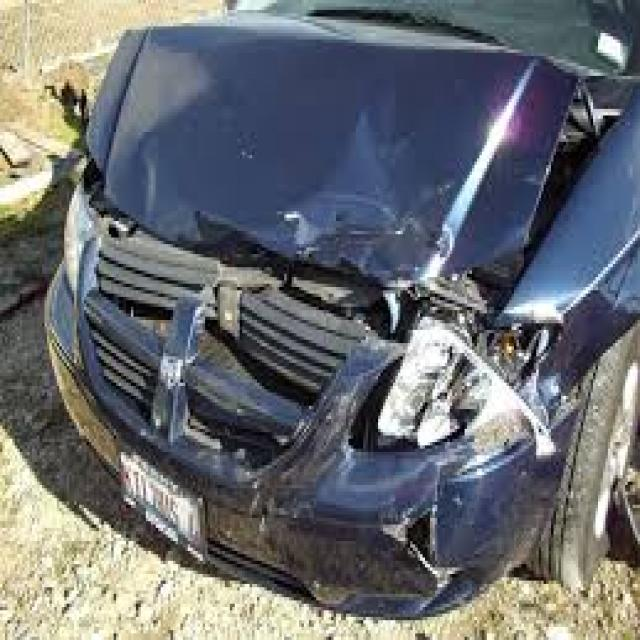severe: (41, 89, 630, 526)
